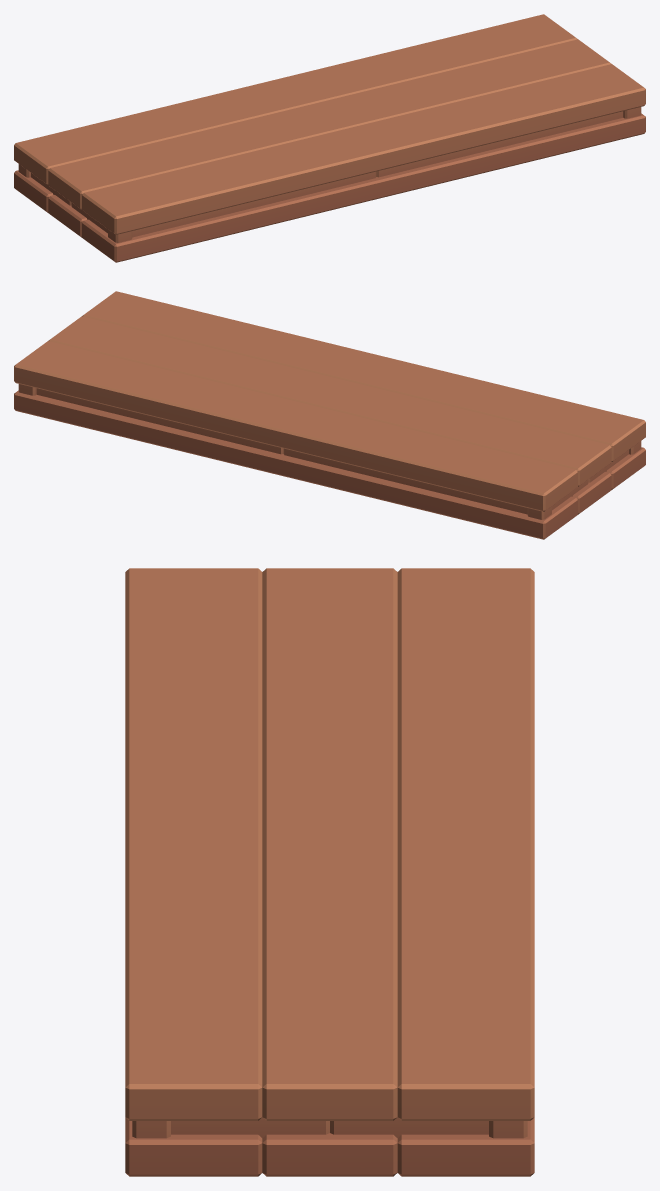
Rendered from floor_wood_2x6.glb.
3 renders of one model, top to bottom at view 1: azimuth 30°, elevation 25°; view 2: azimuth 150°, elevation 25°; view 3: azimuth 270°, elevation 25°, orthographic. The views are drawn at different scales.
Parts seen in each view (by area): view 1: floor_wood_2x6; view 2: floor_wood_2x6; view 3: floor_wood_2x6.
Part boxes in pixels (x1,y1,x2,y2): floor_wood_2x6: [14, 14, 645, 262]; floor_wood_2x6: [14, 291, 645, 539]; floor_wood_2x6: [125, 568, 534, 1176].
Bounding box in the file's own units: 6 × 0.5 × 2.
Materials: 1 (1 with a texture image).
